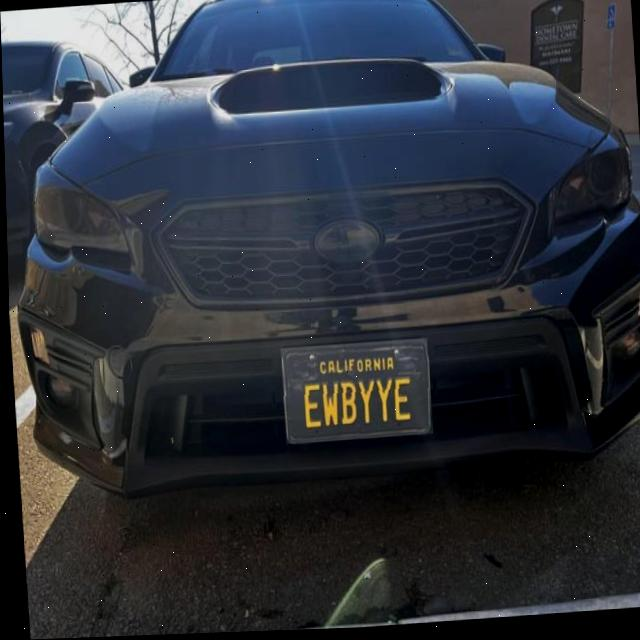LicensePlate: (279, 344, 426, 445)
